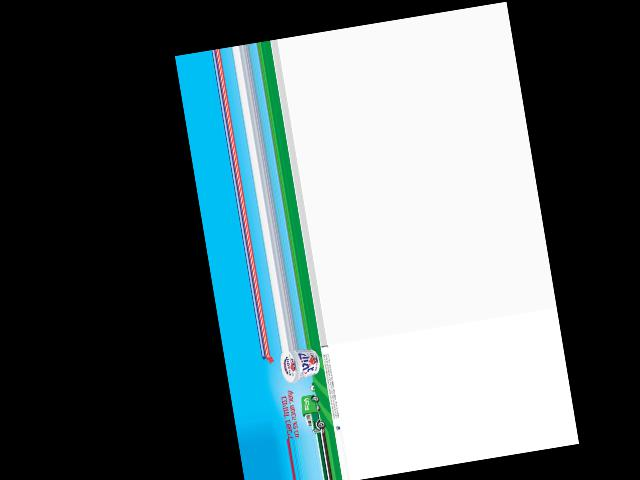cotage: (278, 347, 322, 384)
